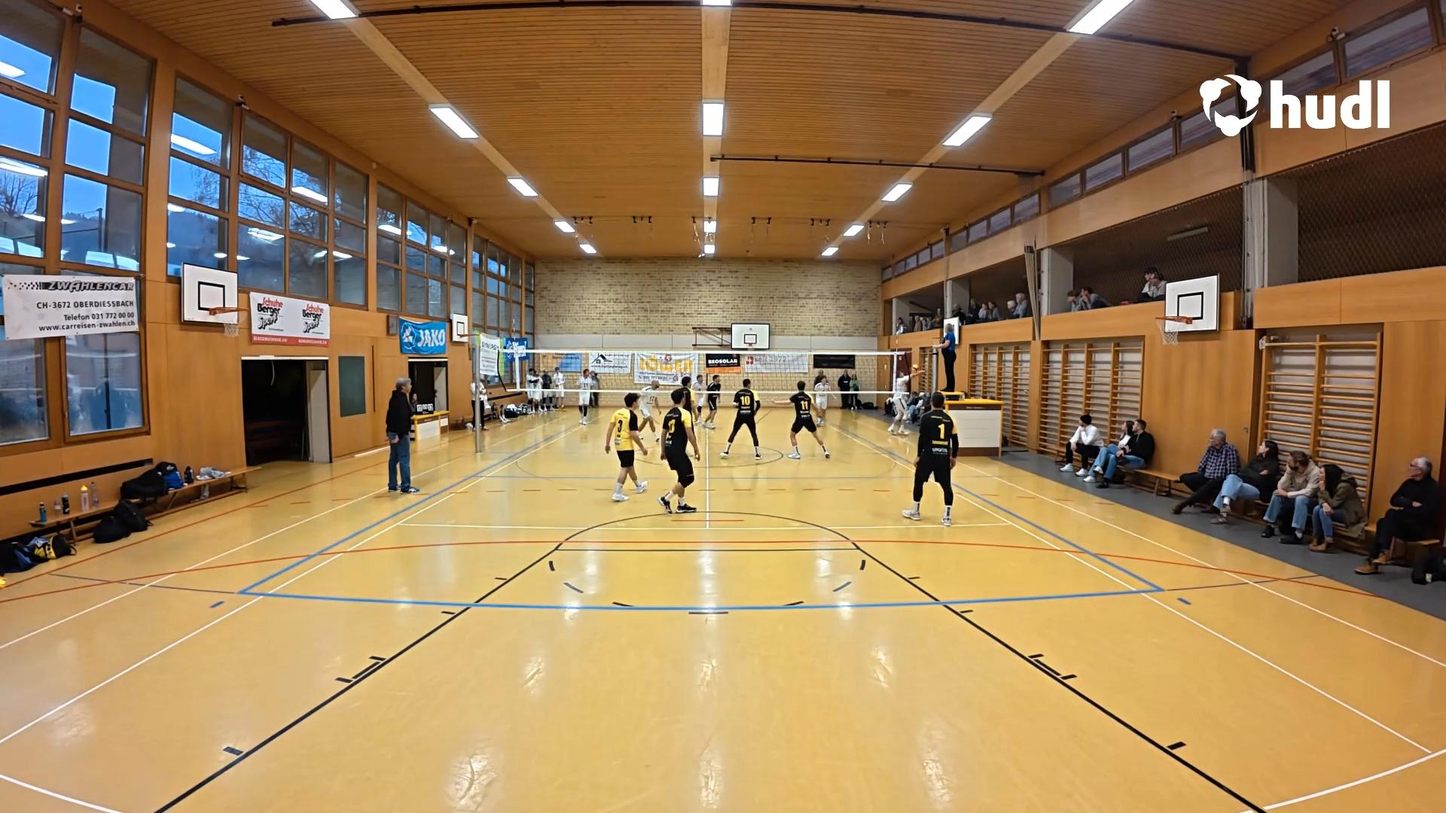Dig: (886, 362, 926, 439)
Player: (908, 388, 958, 524), (603, 390, 651, 501), (655, 401, 698, 511), (785, 379, 829, 460), (723, 377, 764, 460), (635, 374, 663, 445), (670, 373, 701, 419), (574, 366, 597, 425), (810, 378, 832, 427), (689, 372, 707, 431), (705, 370, 722, 430)
ball: (910, 362, 922, 374)
